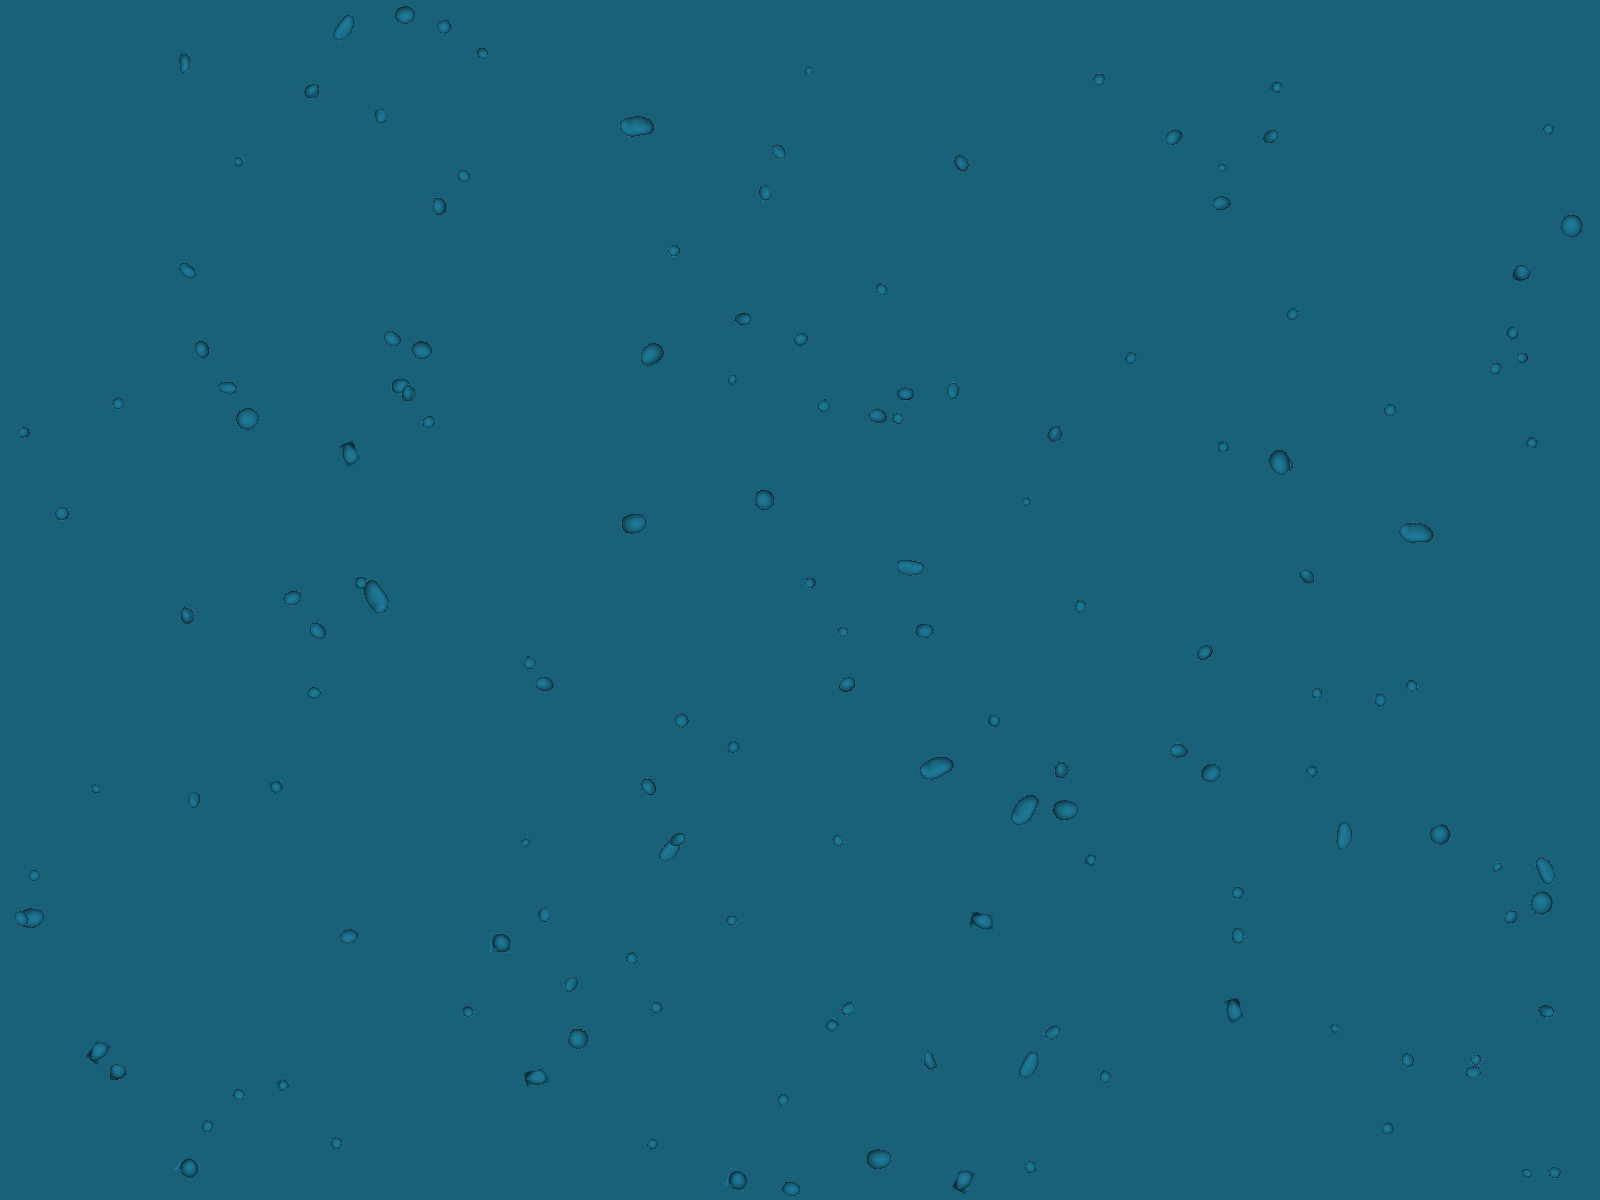drop: (1393, 511, 1439, 555), (614, 105, 660, 147), (915, 749, 957, 787), (1003, 792, 1046, 828), (359, 577, 392, 616), (1529, 852, 1563, 889), (655, 831, 687, 868), (1555, 209, 1589, 243), (231, 402, 265, 435), (330, 10, 359, 47), (1526, 887, 1558, 919), (1015, 1047, 1043, 1084), (635, 339, 668, 369), (391, 1, 420, 32), (1049, 797, 1081, 824), (407, 337, 436, 366), (1506, 260, 1534, 289), (174, 1153, 203, 1182), (84, 1037, 112, 1066), (1425, 822, 1454, 850), (214, 374, 242, 402), (102, 1060, 130, 1088), (564, 1026, 592, 1054), (864, 1147, 894, 1172), (951, 1166, 976, 1195), (1334, 819, 1356, 853), (939, 377, 965, 403), (893, 558, 927, 579), (16, 908, 47, 930), (947, 151, 974, 176), (180, 787, 207, 812), (336, 923, 362, 949), (338, 440, 362, 468), (175, 258, 200, 284), (731, 306, 756, 332), (724, 1167, 750, 1192), (753, 488, 777, 514), (1193, 640, 1217, 666), (427, 194, 451, 219), (1165, 739, 1191, 763), (1208, 192, 1233, 216), (280, 585, 304, 610), (1199, 763, 1225, 787), (1269, 449, 1290, 476), (620, 513, 648, 534), (523, 1066, 551, 1088), (787, 326, 811, 350), (50, 502, 74, 526), (1534, 1000, 1558, 1024), (397, 382, 421, 406), (1049, 759, 1073, 783), (174, 50, 195, 77), (1223, 997, 1245, 1024), (969, 911, 997, 932), (1395, 1050, 1419, 1073), (866, 405, 889, 427), (1162, 126, 1184, 150), (380, 326, 404, 349), (1120, 345, 1143, 369), (918, 1047, 940, 1073), (779, 1179, 804, 1200), (1274, 454, 1296, 476), (559, 972, 582, 995), (1260, 125, 1283, 147), (489, 932, 511, 954), (1041, 1024, 1065, 1045), (532, 673, 556, 695), (893, 384, 918, 405), (723, 735, 745, 758), (1283, 303, 1304, 325), (666, 828, 689, 850), (1044, 424, 1066, 446), (176, 605, 199, 626), (664, 239, 685, 261), (1226, 881, 1247, 903), (326, 1132, 348, 1153), (1545, 1162, 1566, 1184), (913, 621, 936, 642), (197, 1116, 219, 1136), (433, 16, 455, 37), (191, 339, 212, 361), (1401, 676, 1422, 696), (11, 908, 31, 929), (471, 43, 491, 64), (456, 1002, 477, 1022), (800, 571, 820, 592), (871, 279, 891, 299), (454, 166, 474, 187), (646, 996, 666, 1016), (620, 949, 640, 969), (1377, 1117, 1397, 1137), (774, 1092, 794, 1112), (838, 998, 858, 1018), (1499, 908, 1519, 926), (769, 142, 787, 163), (837, 676, 857, 695), (639, 776, 658, 797), (1487, 358, 1506, 378), (307, 621, 328, 640), (1296, 567, 1317, 586), (1096, 1069, 1116, 1088), (1463, 1063, 1483, 1082), (1466, 1051, 1485, 1070), (1380, 401, 1398, 420), (671, 712, 692, 730), (1230, 926, 1247, 947), (372, 106, 389, 126), (756, 183, 774, 203), (1306, 684, 1325, 702), (1071, 597, 1089, 616), (823, 1016, 842, 1034), (828, 832, 847, 850), (391, 378, 411, 395), (535, 905, 552, 925), (304, 83, 321, 101), (1540, 120, 1557, 137), (420, 413, 437, 431), (1503, 324, 1521, 342), (835, 624, 853, 640), (306, 684, 323, 702), (108, 395, 125, 412), (1022, 1158, 1039, 1175), (273, 1076, 291, 1093), (1304, 763, 1322, 779), (16, 422, 33, 440), (231, 1087, 247, 1103), (1372, 692, 1388, 708), (815, 398, 831, 415), (522, 655, 538, 672), (26, 866, 42, 884), (1516, 348, 1531, 366), (645, 1136, 661, 1151), (1267, 79, 1284, 95), (985, 713, 1002, 729), (268, 779, 285, 794), (1519, 1165, 1534, 1181), (724, 371, 740, 387), (1090, 72, 1105, 87), (889, 412, 906, 426), (1524, 435, 1540, 449), (89, 782, 105, 795), (1083, 853, 1097, 867), (1490, 860, 1504, 874), (724, 914, 740, 926), (354, 575, 367, 590), (520, 834, 533, 848), (1217, 440, 1230, 453), (1217, 161, 1230, 173), (803, 64, 814, 76), (1328, 1024, 1339, 1034), (236, 158, 244, 166), (1023, 497, 1032, 505)
